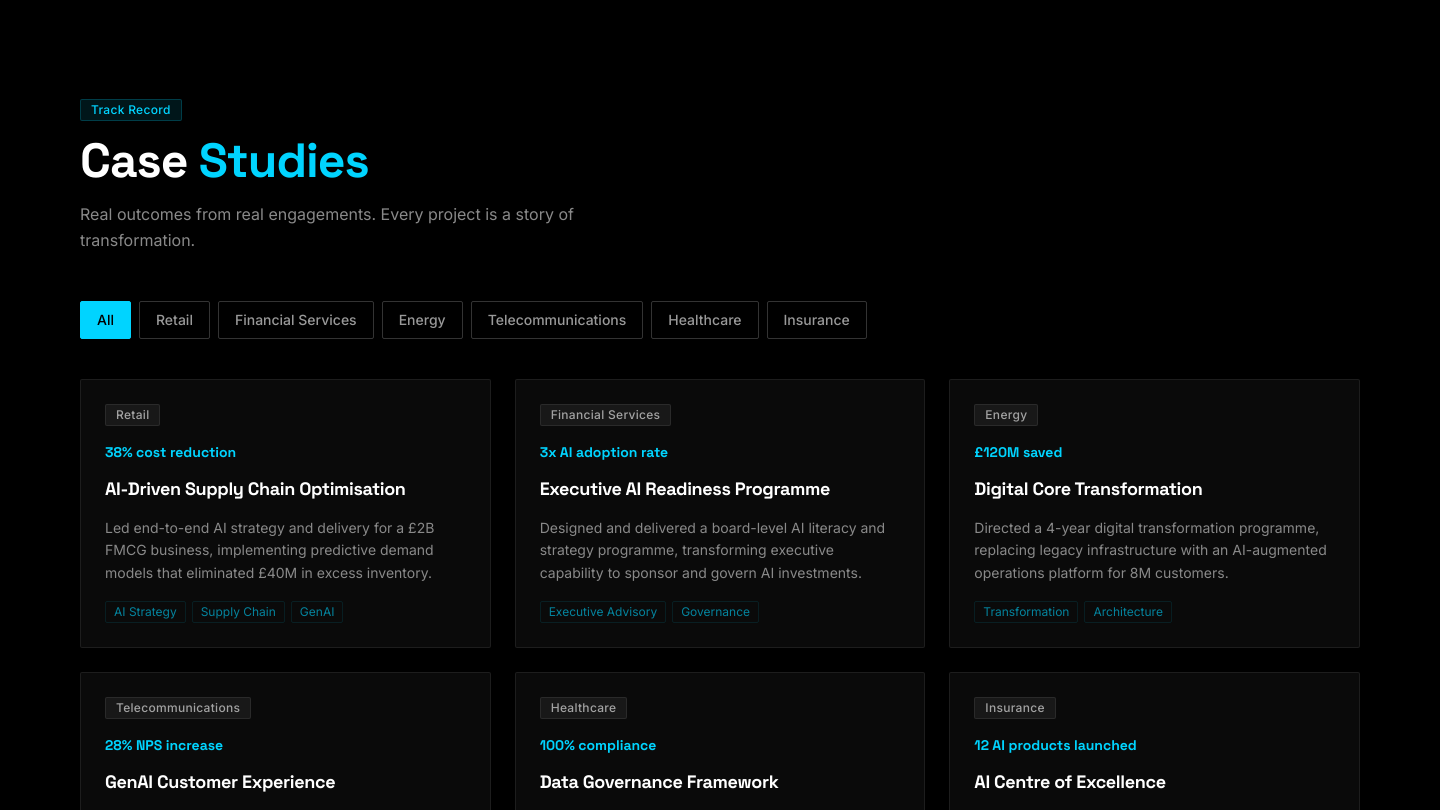
Scenario: CaseStudies › opens and closes case detail modal
What coordinates should you click on to do the following:
click the button with aria-label "view case study: ai-driven supply chain"
I would click on:
 (133, 415)
Its box is [80,379,491,648].
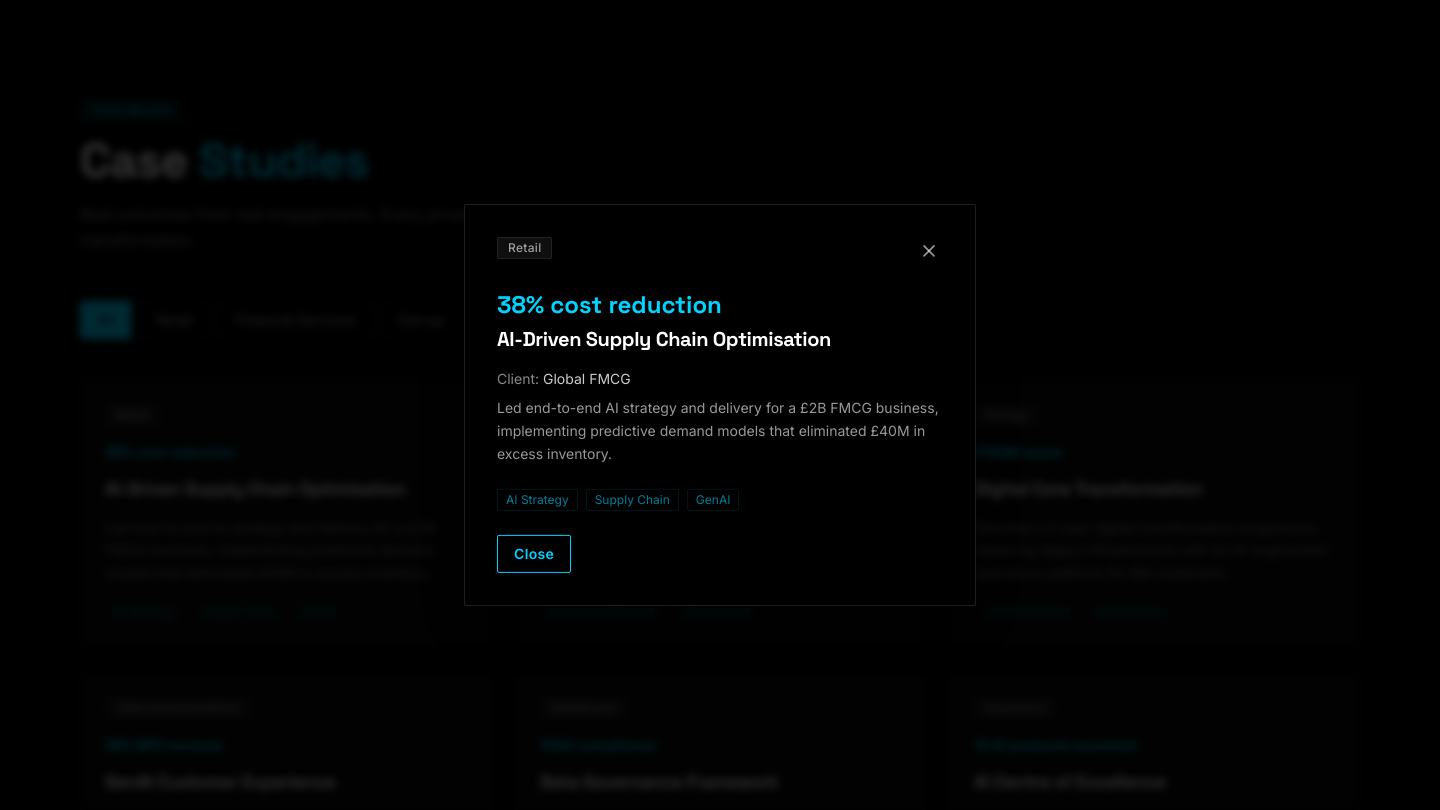
expect the dialog is shown: met, box [464,204,976,606]
expect the heading "AI-Driven Supply Chain Optimisation" is shown: met, box [497,326,831,352]
// Close via button
What coordinates should you click on to do the following:
click the button named "close case study"
I would click on:
 (929, 251)
Its box is [915,237,943,265].
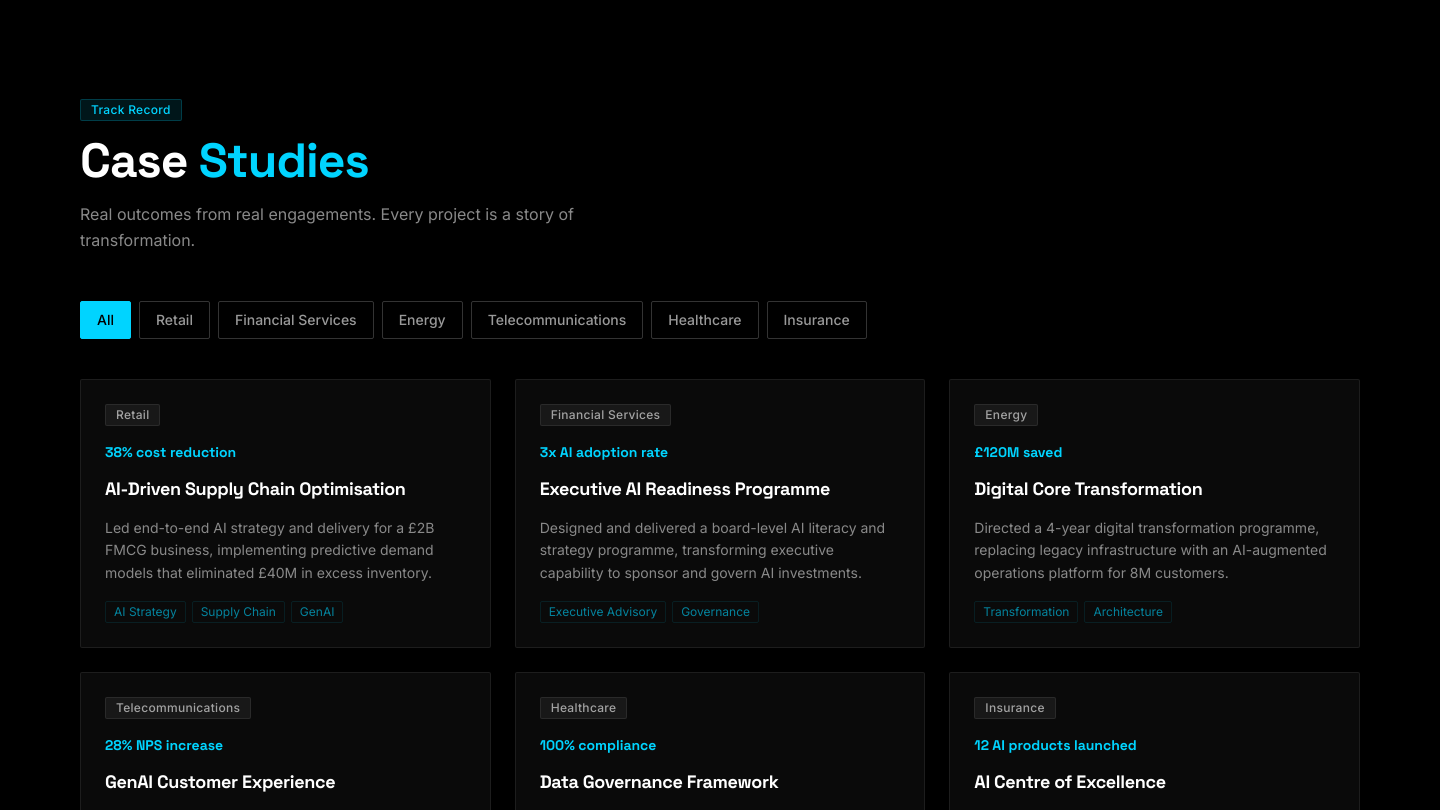
expect the dialog is gone: met
